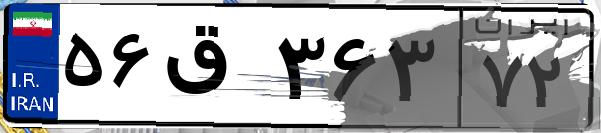2: (525, 38, 570, 115)
3: (270, 28, 330, 110), (385, 28, 445, 110)
5: (57, 26, 110, 100)
6: (330, 28, 385, 110), (110, 28, 158, 98)
7: (475, 38, 525, 113)
ق: (158, 20, 270, 120)
